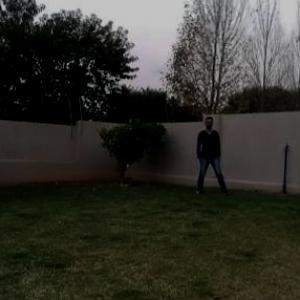follow: (197, 115, 216, 192)
